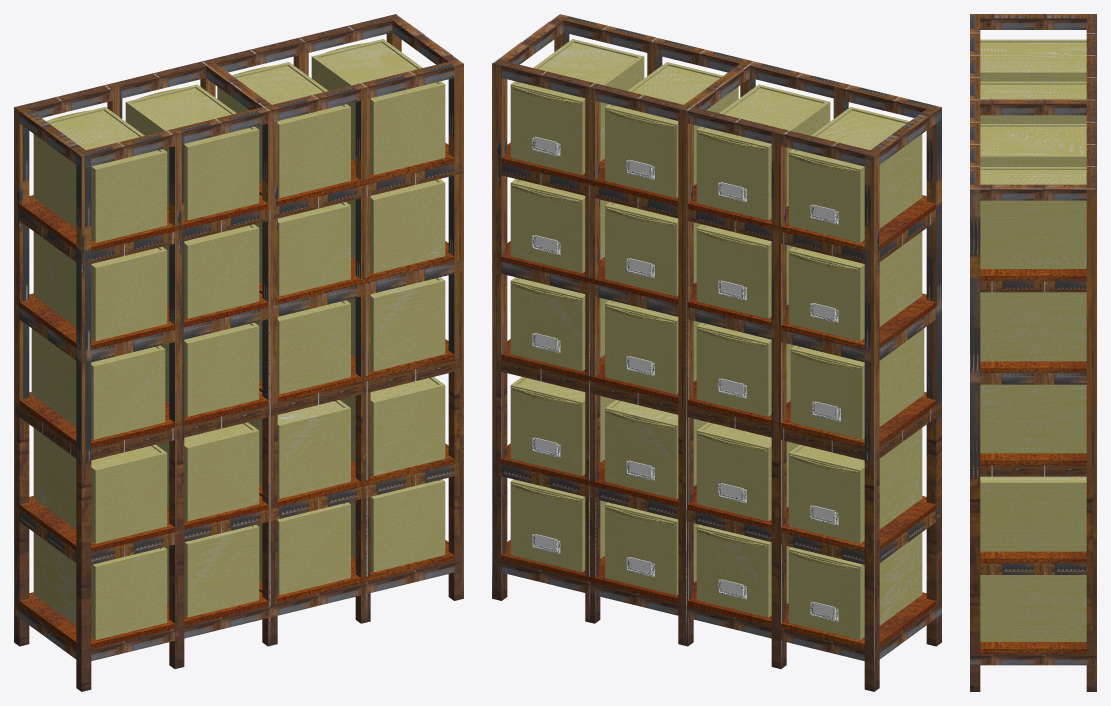
3 renders of one model, left to right at view 1: azimuth 30°, elevation 25°; view 2: azimuth 150°, elevation 25°; view 3: azimuth 270°, elevation 25°, orthographic. The views are drawn at different scales.
Parts seen in each view (by area): view 1: mesh69_mesh69-geometry, mesh30_mesh30-geometry, mesh9_mesh9-geometry, mesh8_mesh8-geometry, mesh7_mesh7-geometry, mesh6_mesh6-geometry, mesh5_mesh5-geometry, mesh14_mesh14-geometry, mesh29_mesh29-geometry, mesh27_mesh27-geometry, mesh28_mesh28-geometry, mesh26_mesh26-geometry (+11 smaller); view 2: mesh69_mesh69-geometry, mesh30_mesh30-geometry, mesh65_mesh65-geometry, mesh14_mesh14-geometry, mesh12_mesh12-geometry, mesh13_mesh13-geometry, mesh10_mesh10-geometry, mesh11_mesh11-geometry, mesh9_mesh9-geometry, mesh29_mesh29-geometry, mesh27_mesh27-geometry, mesh25_mesh25-geometry (+12 smaller); view 3: mesh69_mesh69-geometry, mesh30_mesh30-geometry, mesh7_mesh7-geometry, mesh10_mesh10-geometry, mesh25_mesh25-geometry, mesh27_mesh27-geometry, mesh29_mesh29-geometry, mesh53_mesh53-geometry, mesh57_mesh57-geometry, mesh26_mesh26-geometry, mesh28_mesh28-geometry, mesh1_mesh1-geometry (+2 smaller).
Part boxes in pixels (<box>): mesh69_mesh69-geometry: <box>31,39,445,639</box>; mesh30_mesh30-geometry: <box>14,15,463,167</box>; mesh9_mesh9-geometry: <box>76,150,91,691</box>; mesh8_mesh8-geometry: <box>169,127,184,668</box>; mesh7_mesh7-geometry: <box>448,59,463,600</box>; mesh6_mesh6-geometry: <box>262,105,277,646</box>; mesh5_mesh5-geometry: <box>355,82,370,623</box>; mesh14_mesh14-geometry: <box>14,105,29,646</box>; mesh29_mesh29-geometry: <box>14,161,463,265</box>; mesh27_mesh27-geometry: <box>14,358,461,462</box>; mesh28_mesh28-geometry: <box>14,260,463,364</box>; mesh26_mesh26-geometry: <box>14,463,461,566</box>; mesh69_mesh69-geometry: <box>510,39,924,639</box>; mesh30_mesh30-geometry: <box>492,14,941,167</box>; mesh65_mesh65-geometry: <box>532,136,840,622</box>; mesh14_mesh14-geometry: <box>864,150,879,691</box>; mesh12_mesh12-geometry: <box>678,105,693,646</box>; mesh13_mesh13-geometry: <box>771,127,786,668</box>; mesh10_mesh10-geometry: <box>492,59,507,600</box>; mesh11_mesh11-geometry: <box>585,82,600,623</box>; mesh9_mesh9-geometry: <box>926,105,941,646</box>; mesh29_mesh29-geometry: <box>492,161,941,265</box>; mesh27_mesh27-geometry: <box>498,359,941,461</box>; mesh25_mesh25-geometry: <box>494,558,941,660</box>; mesh69_mesh69-geometry: <box>980,39,1086,641</box>; mesh30_mesh30-geometry: <box>970,14,1096,200</box>; mesh7_mesh7-geometry: <box>970,184,980,691</box>; mesh10_mesh10-geometry: <box>1086,184,1096,691</box>; mesh25_mesh25-geometry: <box>970,654,1096,665</box>; mesh27_mesh27-geometry: <box>970,465,1096,476</box>; mesh29_mesh29-geometry: <box>970,280,1086,292</box>; mesh53_mesh53-geometry: <box>980,453,1086,465</box>; mesh57_mesh57-geometry: <box>980,551,1086,563</box>; mesh26_mesh26-geometry: <box>970,563,1096,574</box>; mesh28_mesh28-geometry: <box>970,373,1087,384</box>; mesh1_mesh1-geometry: <box>980,361,1086,372</box>.
Size of the model in its own units: 0.5887 by 0.788 by 0.1803.
